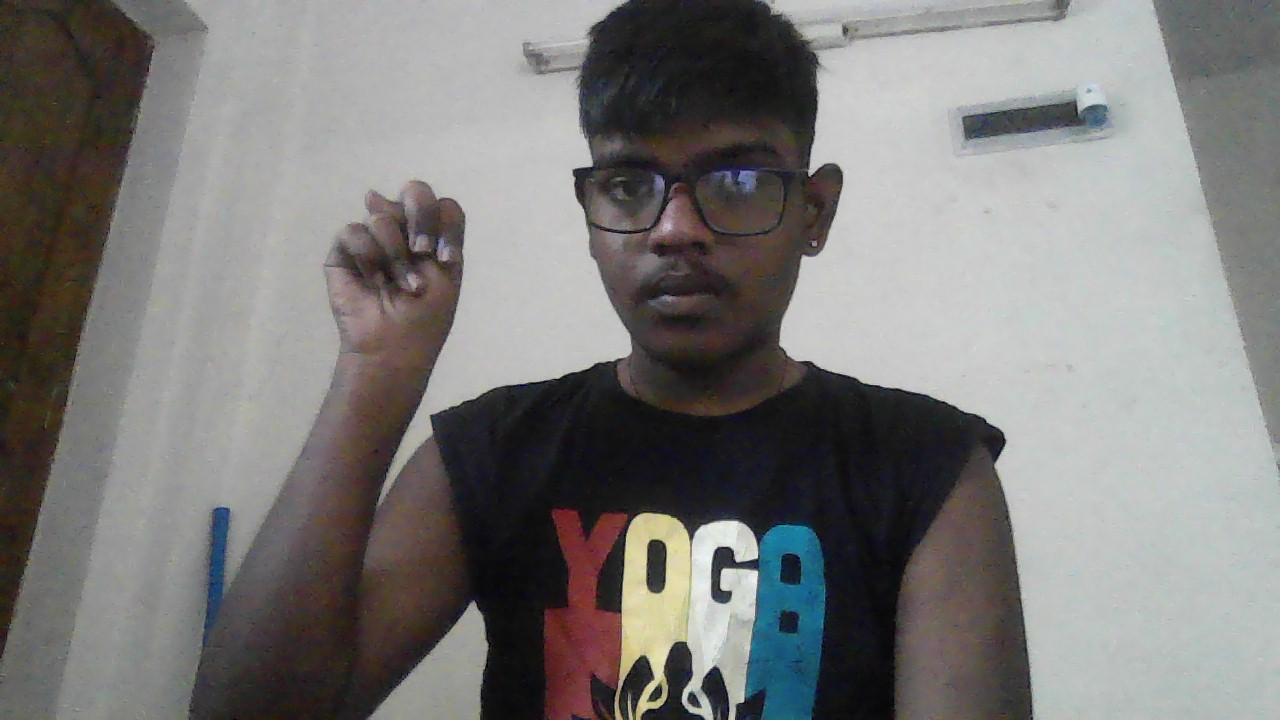N: (324, 180, 466, 363)
